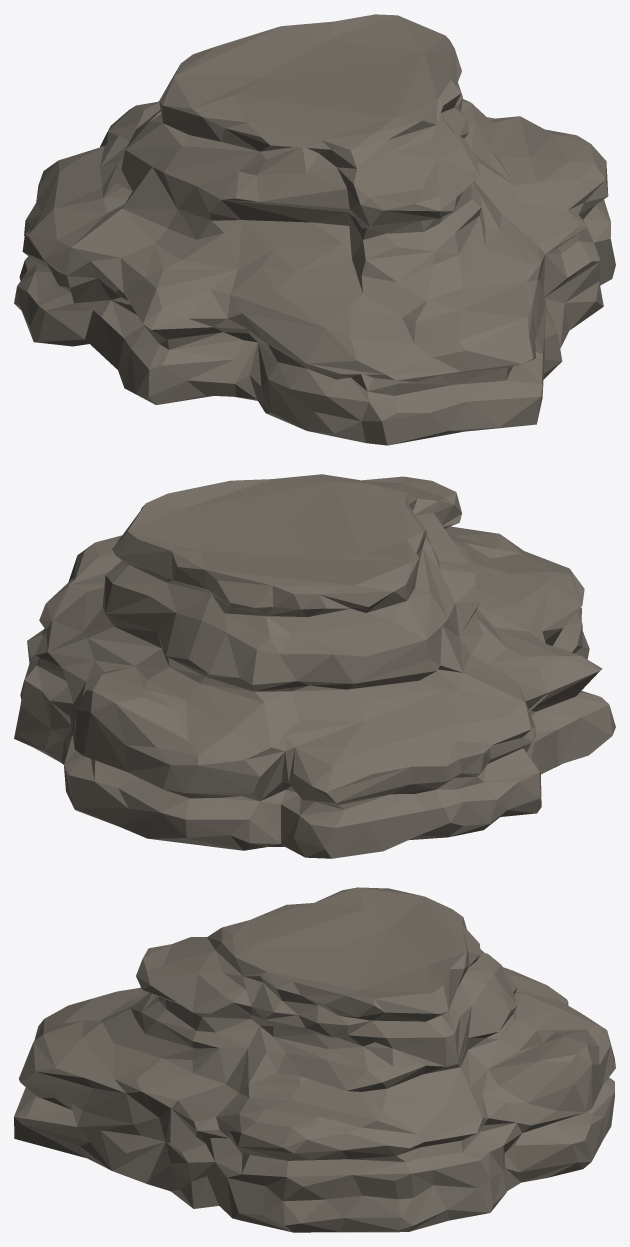
Rendered from SM_Env_Rock_Large_09.fbx.glb.
The picture shows the model from 3 angles, top to bottom: view 1: azimuth 30°, elevation 25°; view 2: azimuth 150°, elevation 25°; view 3: azimuth 270°, elevation 25°; orthographic projection. The views are drawn at different scales.
Parts seen in each view (by area): view 1: node_id4; view 2: node_id4; view 3: node_id4.
Part boxes in pixels (x1,y1,x2,y2): node_id4: [14, 14, 615, 445]; node_id4: [14, 474, 615, 858]; node_id4: [14, 887, 615, 1232].
Size of the model in its own units: 0.512 by 0.2018 by 0.5741.
1 material, 1 textured.
